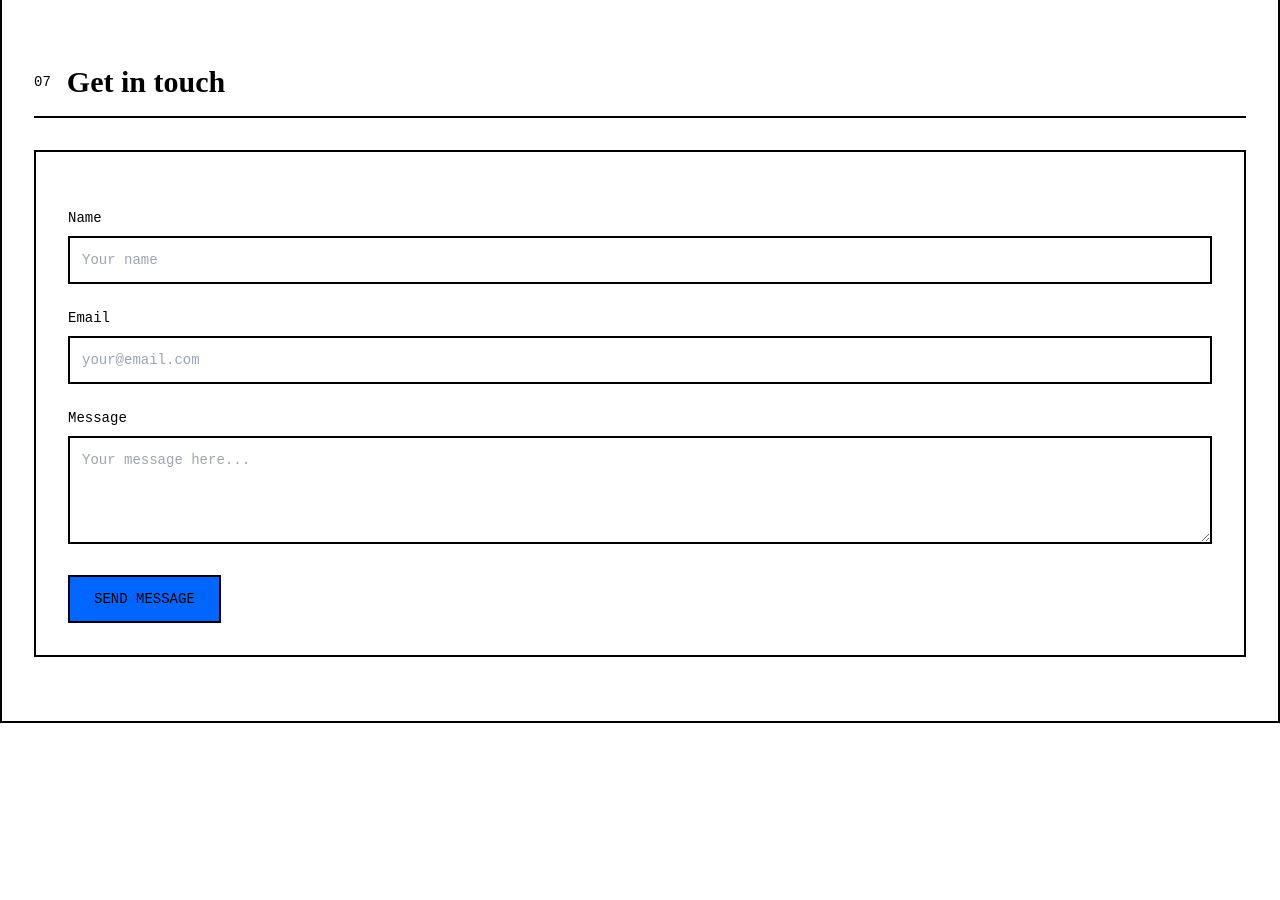
Test: Contact › shows an error when the server fails
Type "Ana" into the field labelled "Name".
click(640, 260); type("Ana")  # box left=68, top=236, right=1212, bottom=284
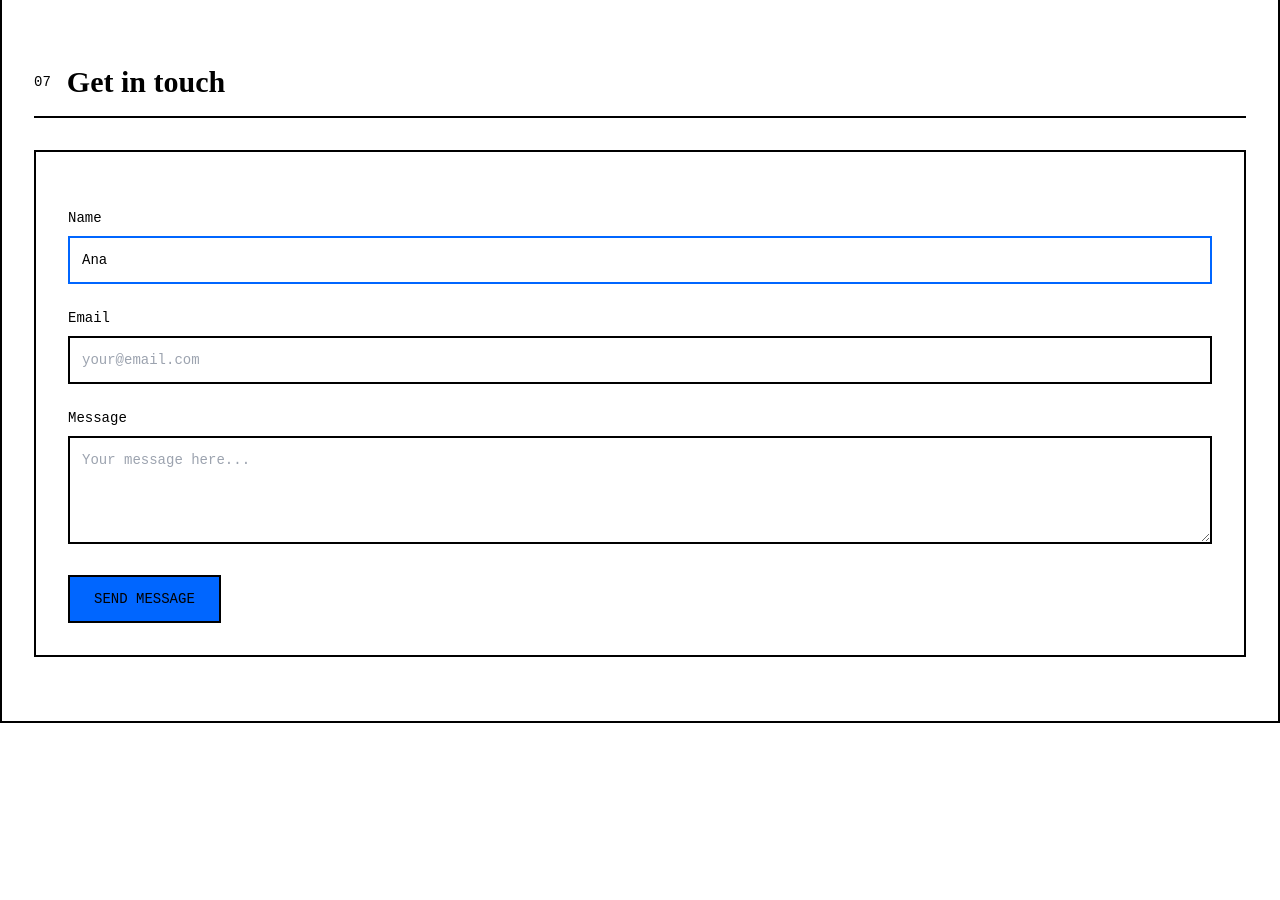
Type "a@b.co" into the field labelled "Email".
click(640, 360); type("a@b.co")  # box left=68, top=336, right=1212, bottom=384
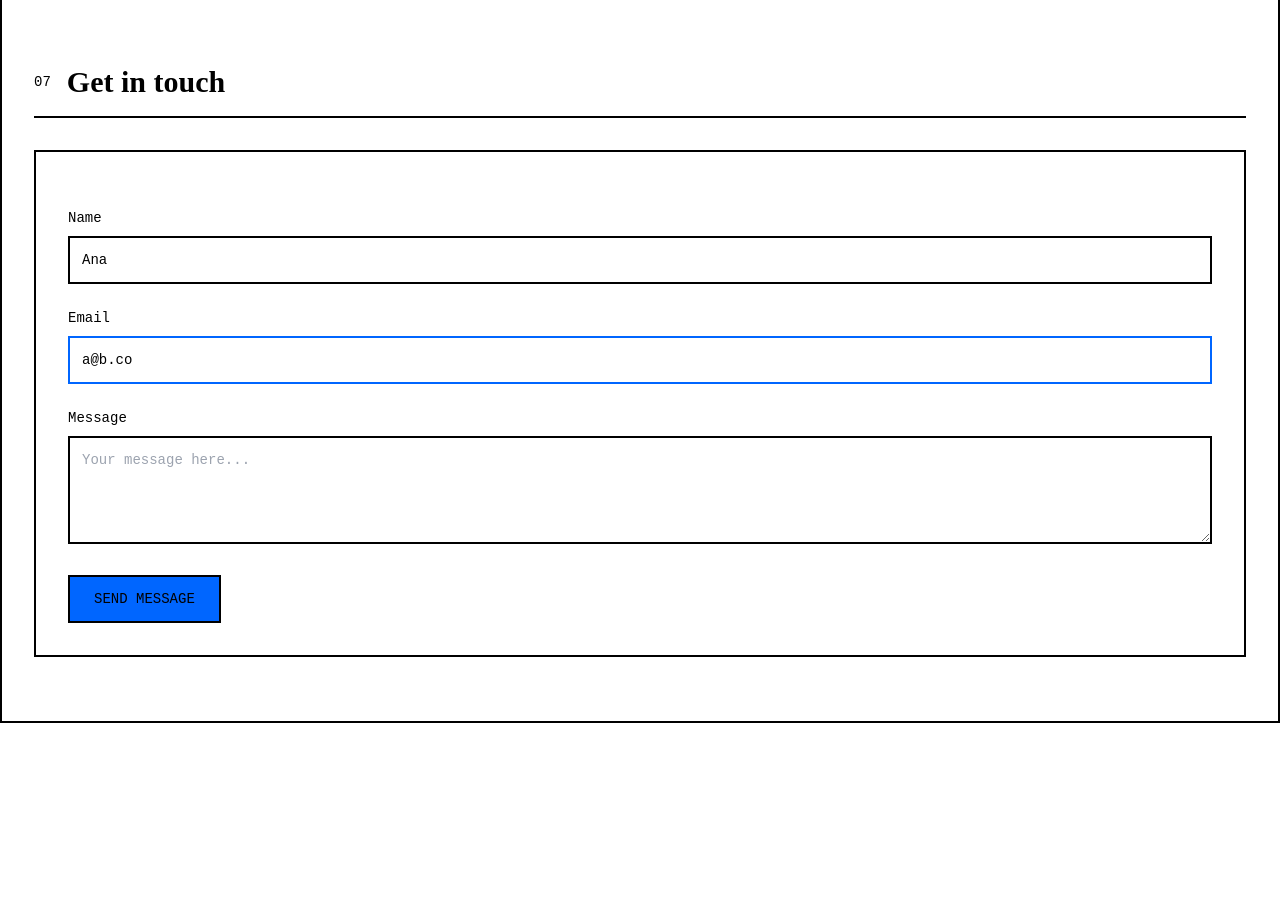
Type "Hello there world" into the text box labelled "Message".
click(640, 490); type("Hello there world")  # box left=68, top=436, right=1212, bottom=544
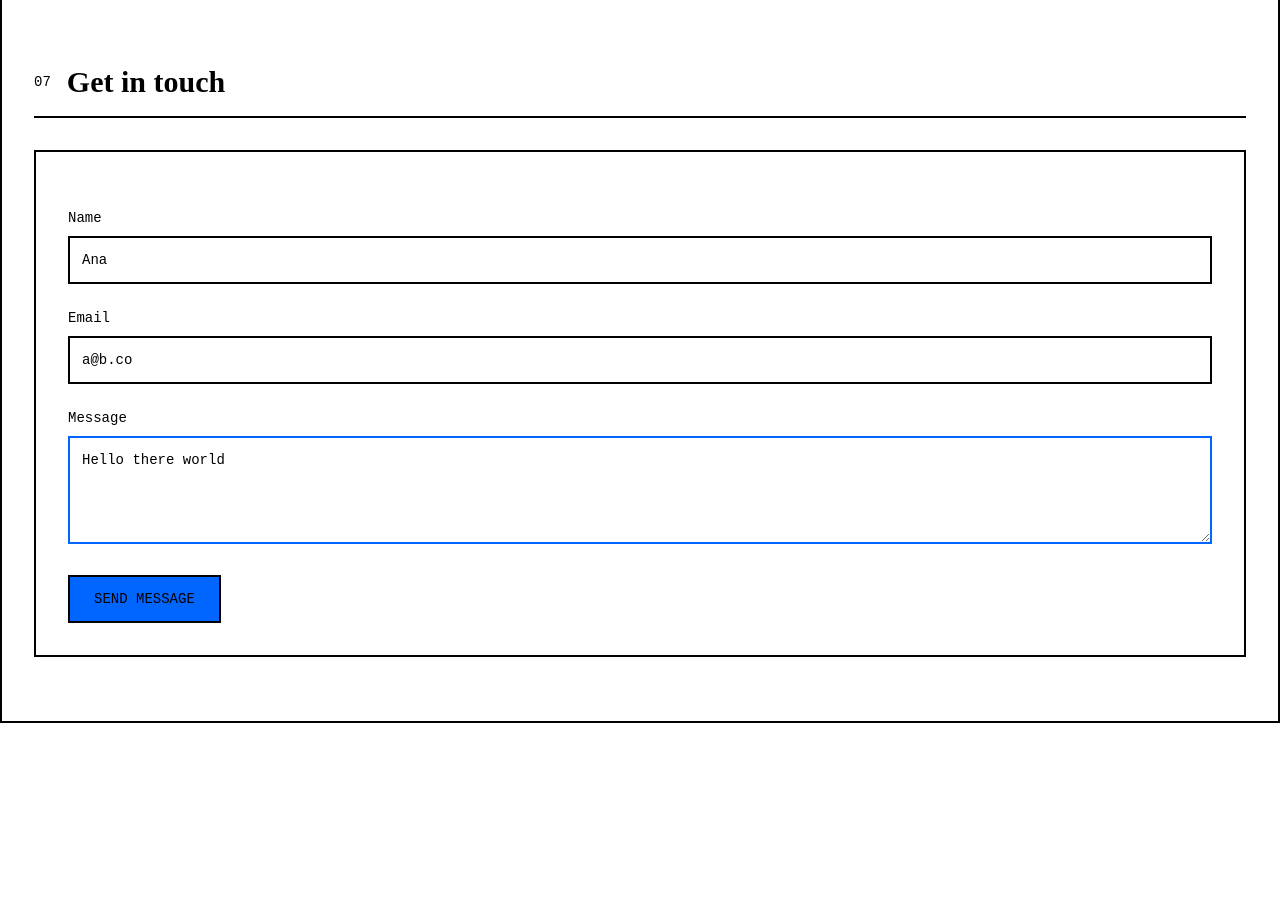
Click the button "SEND MESSAGE".
click(144, 599)  # box left=68, top=575, right=221, bottom=623
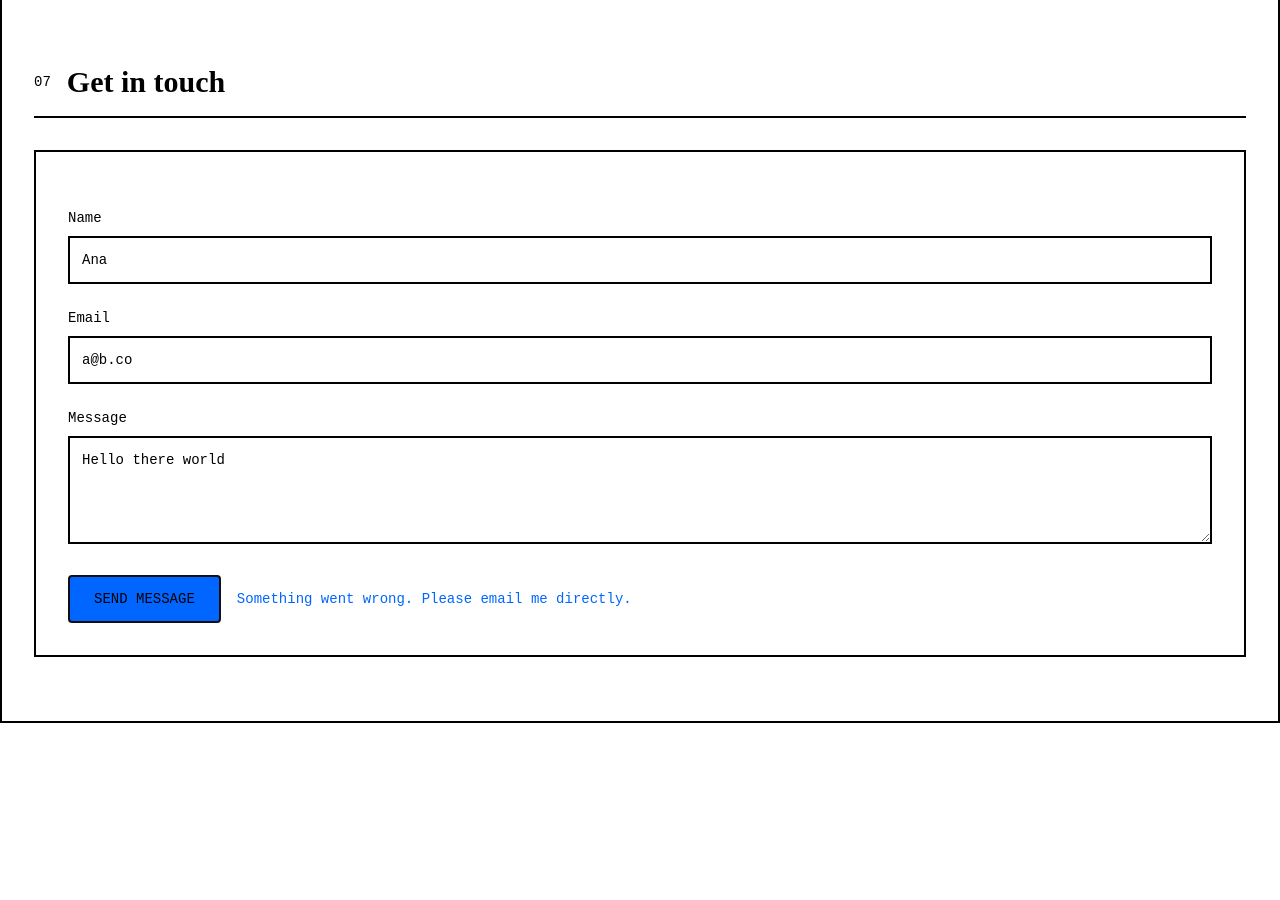
Expected: the text "Something went wrong. Please email me directly." is shown, left=237, top=589, right=632, bottom=609
